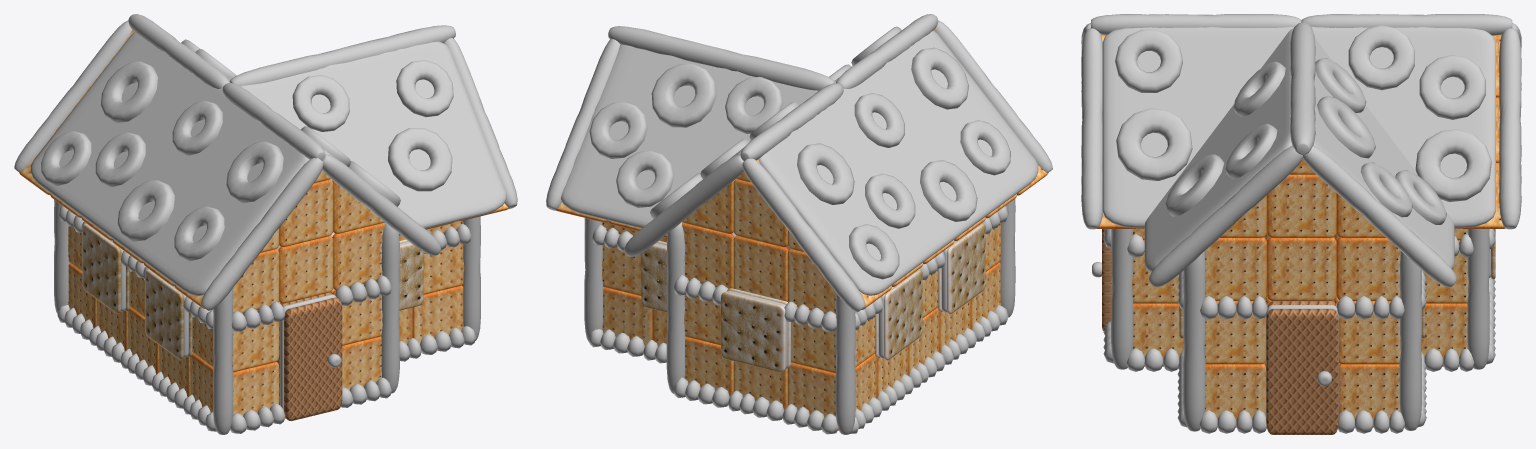
Rendered from cw_house_12.fbx.
The picture shows the model from 3 angles, left to right: view 1: azimuth 30°, elevation 25°; view 2: azimuth 150°, elevation 25°; view 3: azimuth 270°, elevation 25°; orthographic projection. The views are drawn at different scales.
Visible parts, largest first — view 1: cw_house_12; view 2: cw_house_12; view 3: cw_house_12.
Part boxes in pixels (x1,y1,x2,y2): cw_house_12: (14, 14, 517, 434); cw_house_12: (546, 14, 1052, 434); cw_house_12: (1081, 14, 1521, 434).
Size of the model in its own units: 693 by 532 by 682.
